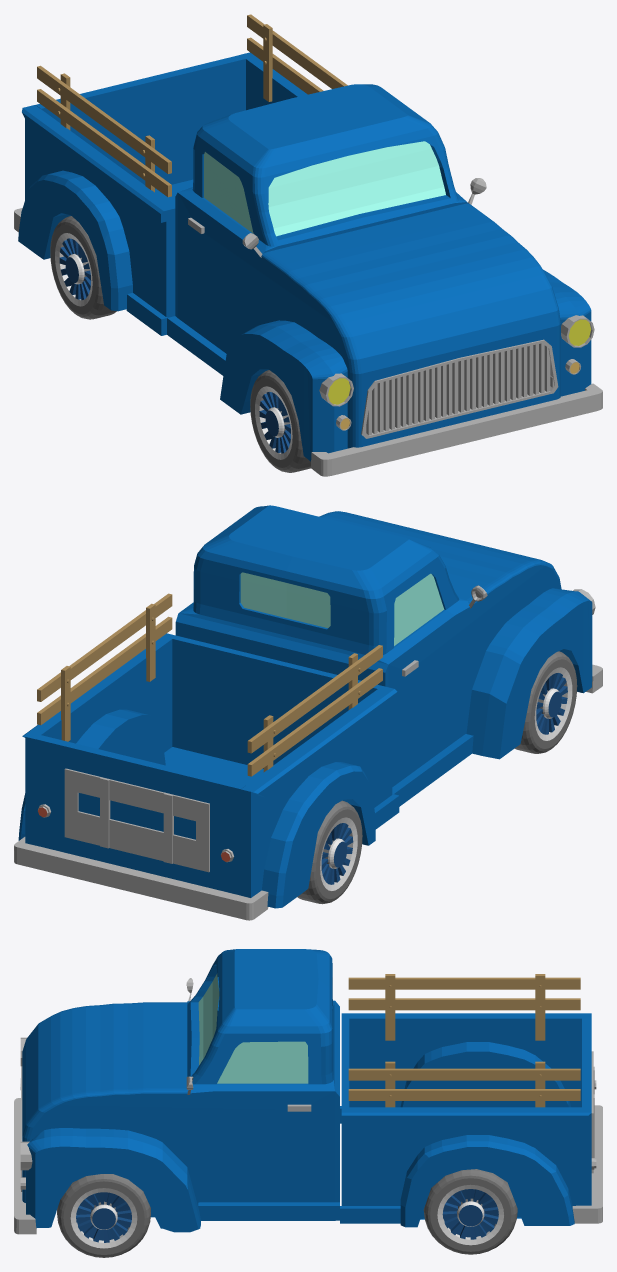
File: pickup.fbx
3 renders of one model, top to bottom at view 1: azimuth 30°, elevation 25°; view 2: azimuth 150°, elevation 25°; view 3: azimuth 270°, elevation 25°, orthographic. The views are drawn at different scales.
Visible parts, largest first — view 1: pickup01.001, pickup01backleftwheel.001, pickup01frontleftwheel.001; view 2: pickup01.001, pickup01backleftwheel.001, pickup01frontleftwheel.001; view 3: pickup01.001, pickup01backrightwheel.001, pickup01frontrightwheel.001.
Boxes of the visible parts, left/top/right/bottom form: pickup01.001: left=14, top=14, right=602, bottom=476; pickup01backleftwheel.001: left=50, top=216, right=116, bottom=319; pickup01frontleftwheel.001: left=250, top=370, right=310, bottom=472; pickup01.001: left=14, top=505, right=602, bottom=920; pickup01backleftwheel.001: left=297, top=800, right=362, bottom=904; pickup01frontleftwheel.001: left=514, top=651, right=577, bottom=753; pickup01.001: left=14, top=949, right=602, bottom=1234; pickup01backrightwheel.001: left=423, top=1169, right=517, bottom=1254; pickup01frontrightwheel.001: left=57, top=1174, right=150, bottom=1257.
Bounding box in the file's own units: 79.14 × 67 × 161.
